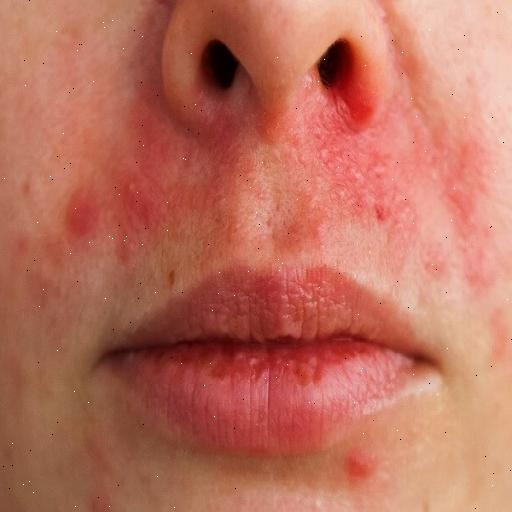Skin_Lesion: (442, 162, 485, 234), (353, 145, 393, 185), (319, 104, 352, 150), (484, 310, 510, 366), (344, 442, 374, 490), (464, 254, 496, 298), (62, 199, 96, 239), (118, 177, 150, 205), (424, 243, 446, 279), (208, 119, 230, 153), (313, 212, 329, 256), (116, 227, 132, 268), (362, 195, 388, 219), (84, 492, 112, 512), (19, 172, 32, 198), (165, 269, 177, 292), (212, 202, 226, 218)
